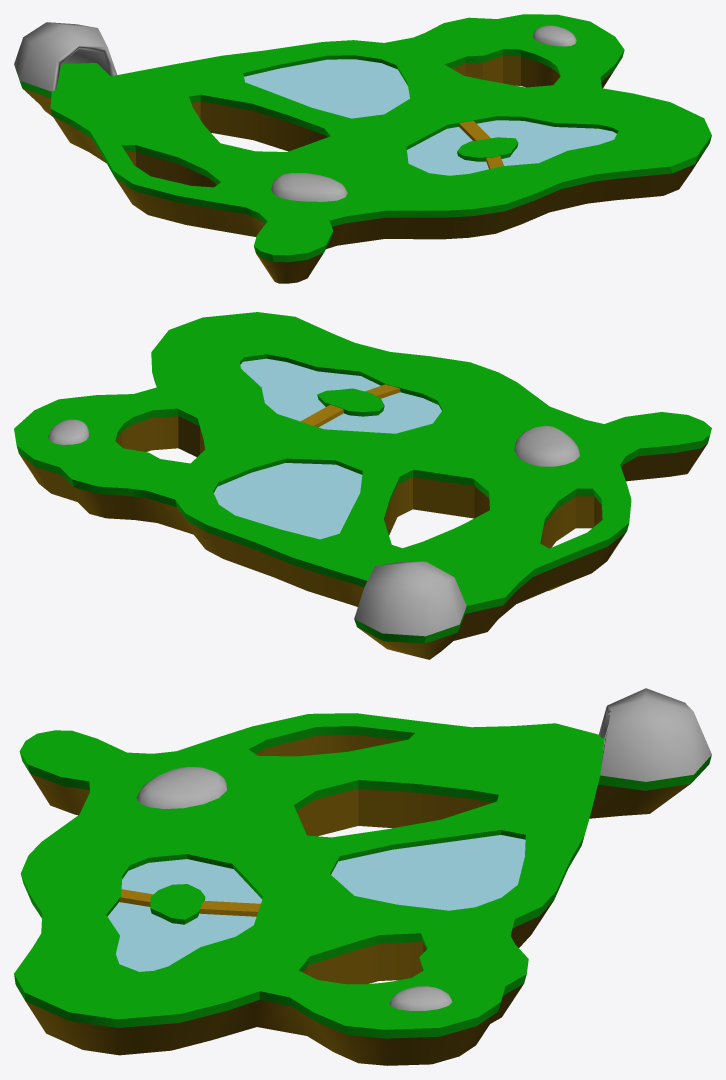
Rendered from level.fbx.
3 views of the same model, one above another, from view 1: azimuth 30°, elevation 25°; view 2: azimuth 150°, elevation 25°; view 3: azimuth 270°, elevation 25° (orthographic). The views are drawn at different scales.
Visible parts, largest first — view 1: groundMesh, groundBelowMesh, waterMesh1, waterMesh2, caveMesh, stoneMesh1, islandMesh, stoneMesh2; view 2: groundMesh, groundBelowMesh, waterMesh1, waterMesh2, caveMesh, stoneMesh1, islandMesh, stoneMesh2; view 3: groundMesh, groundBelowMesh, waterMesh1, waterMesh2, caveMesh, stoneMesh1, islandMesh, stoneMesh2, bridgeMesh1.
Boxes of the visible parts, left/top/right/bottom form: groundMesh: left=15, top=14, right=711, bottom=262; groundBelowMesh: left=23, top=56, right=708, bottom=283; waterMesh1: left=244, top=59, right=409, bottom=118; waterMesh2: left=407, top=120, right=616, bottom=175; caveMesh: left=14, top=22, right=117, bottom=91; stoneMesh1: left=271, top=173, right=347, bottom=201; islandMesh: left=457, top=137, right=518, bottom=161; stoneMesh2: left=533, top=25, right=576, bottom=46; groundMesh: left=14, top=312, right=711, bottom=643; groundBelowMesh: left=19, top=416, right=707, bottom=659; waterMesh1: left=214, top=463, right=362, bottom=539; waterMesh2: left=240, top=358, right=441, bottom=433; caveMesh: left=354, top=561, right=466, bottom=636; stoneMesh1: left=514, top=425, right=579, bottom=466; islandMesh: left=317, top=388, right=384, bottom=416; stoneMesh2: left=48, top=419, right=88, bottom=444; groundMesh: left=14, top=713, right=711, bottom=1038; groundBelowMesh: left=25, top=735, right=690, bottom=1065; waterMesh1: left=331, top=835, right=525, bottom=910; waterMesh2: left=107, top=859, right=262, bottom=971; caveMesh: left=599, top=688, right=711, bottom=781; stoneMesh1: left=136, top=766, right=226, bottom=808; islandMesh: left=150, top=884, right=205, bottom=924; stoneMesh2: left=389, top=986, right=452, bottom=1010; bridgeMesh1: left=199, top=900, right=260, bottom=916.
Size of the model in its own units: 139 by 21.21 by 130.
